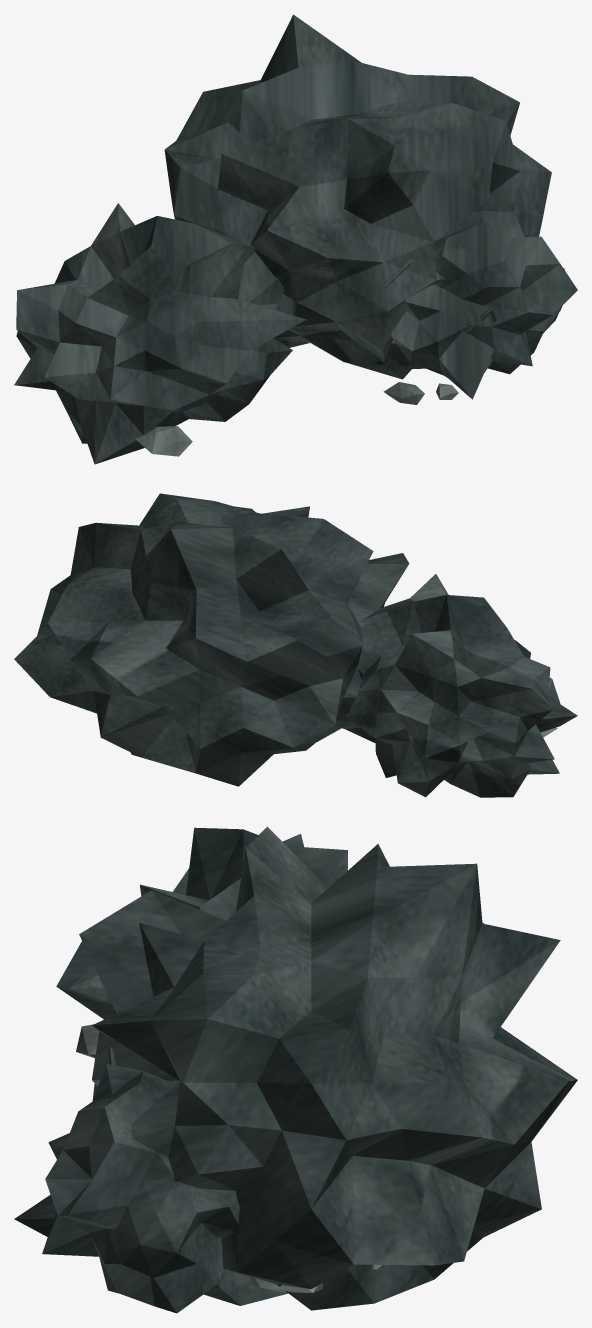
The model's file is 0005_boulder_05.glb.
3 renders of one model, top to bottom at view 1: azimuth 30°, elevation 25°; view 2: azimuth 150°, elevation 25°; view 3: azimuth 270°, elevation 25°, orthographic. The views are drawn at different scales.
Visible parts, largest first — view 1: stone_dark, stone; view 2: stone_dark; view 3: stone_dark, stone.
Part boxes in pixels (bbox=[...]): stone_dark: bbox=[14, 14, 577, 464]; stone: bbox=[135, 382, 458, 456]; stone_dark: bbox=[14, 493, 577, 797]; stone_dark: bbox=[14, 826, 577, 1313]; stone: bbox=[76, 1024, 383, 1292].
Size of the model in its own units: 3.65 by 1.93 by 2.4.
2 materials, 2 textured.
